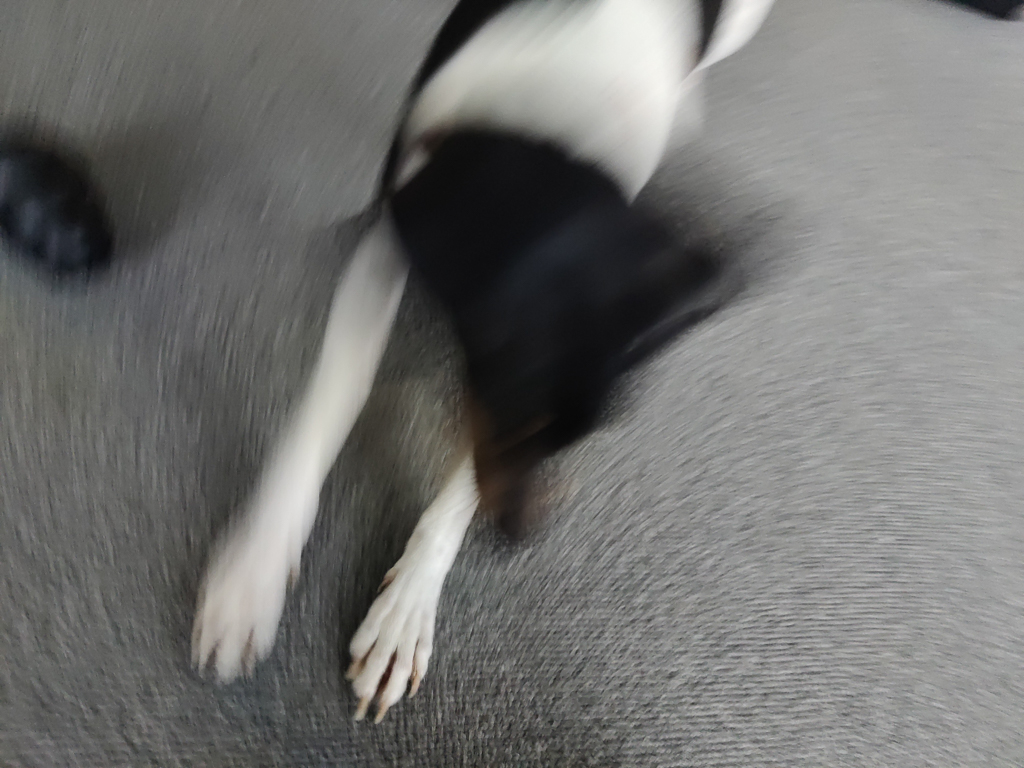Dog: (150, 0, 792, 750)
